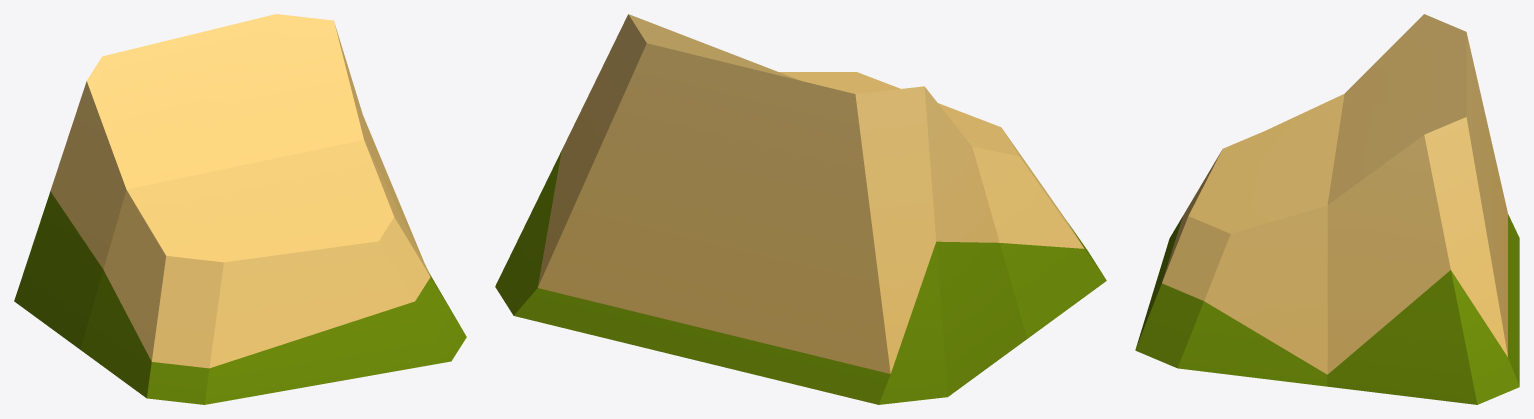
Rendered from Rock_01.fbx.
3 views of the same model, side by side, from view 1: azimuth 30°, elevation 25°; view 2: azimuth 150°, elevation 25°; view 3: azimuth 270°, elevation 25° (orthographic). The views are drawn at different scales.
Parts seen in each view (by area): view 1: Rock_01; view 2: Rock_01; view 3: Rock_01.
Boxes of the visible parts, left/top/right/bottom form: Rock_01: left=14, top=14, right=466, bottom=404; Rock_01: left=495, top=14, right=1106, bottom=404; Rock_01: left=1135, top=14, right=1519, bottom=404.
Size of the model in its own units: 358 by 207 by 315.
